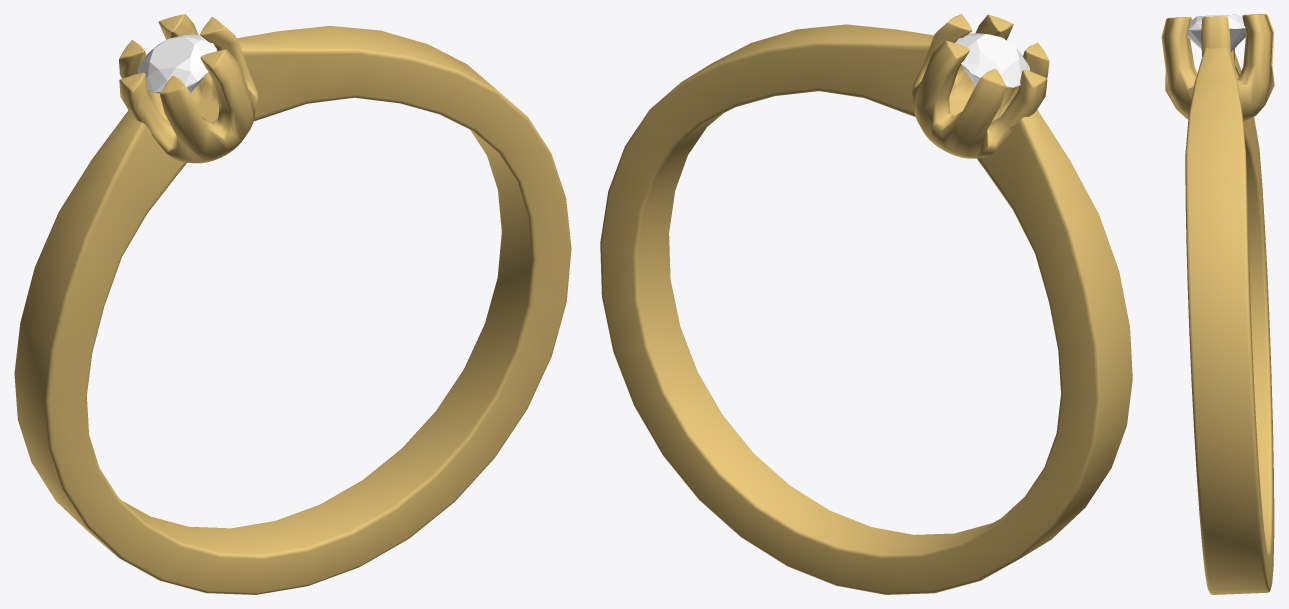
Rendered from ring-v2.glb.
3 renders of one model, left to right at view 1: azimuth 30°, elevation 25°; view 2: azimuth 150°, elevation 25°; view 3: azimuth 270°, elevation 25°, orthographic. The views are drawn at different scales.
Parts seen in each view (by area): view 1: ring, head, diamond; view 2: ring, head, diamond; view 3: ring, head, diamond.
Boxes of the visible parts, x1,y1,x2,y2 form: ring: (14,26,571,594); head: (119,14,257,163); diamond: (137,34,216,93); ring: (600,24,1132,594); head: (912,14,1049,158); diamond: (955,33,1029,87); ring: (1185,47,1274,594); head: (1161,14,1274,121); diamond: (1187,14,1245,51).
Size of the model in its own units: 2.7 by 2.9 by 0.5731.
